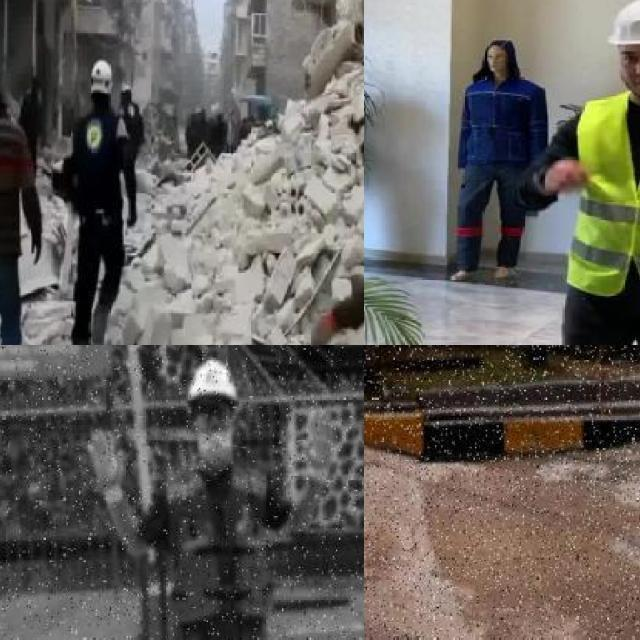apron: (298, 412, 344, 484), (86, 432, 125, 508)
